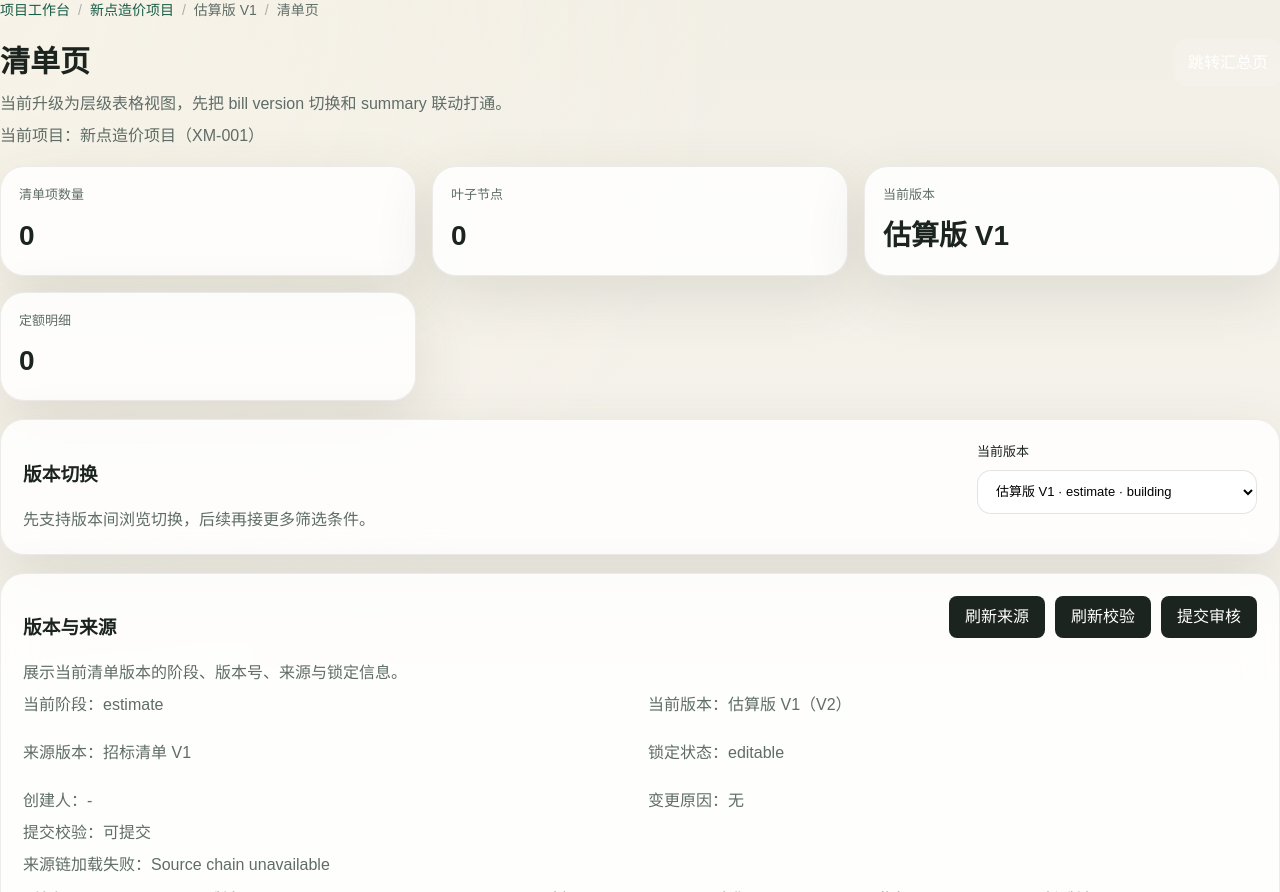
BillItemsPage › refreshes source chain after load failure
Expected: the text "来源链加载失败：Source chain unavailable" is shown, 23,856 -> 330,873
Click the button "刷新来源" at (997, 616), box 949,596 -> 1045,638
(page scrolled)
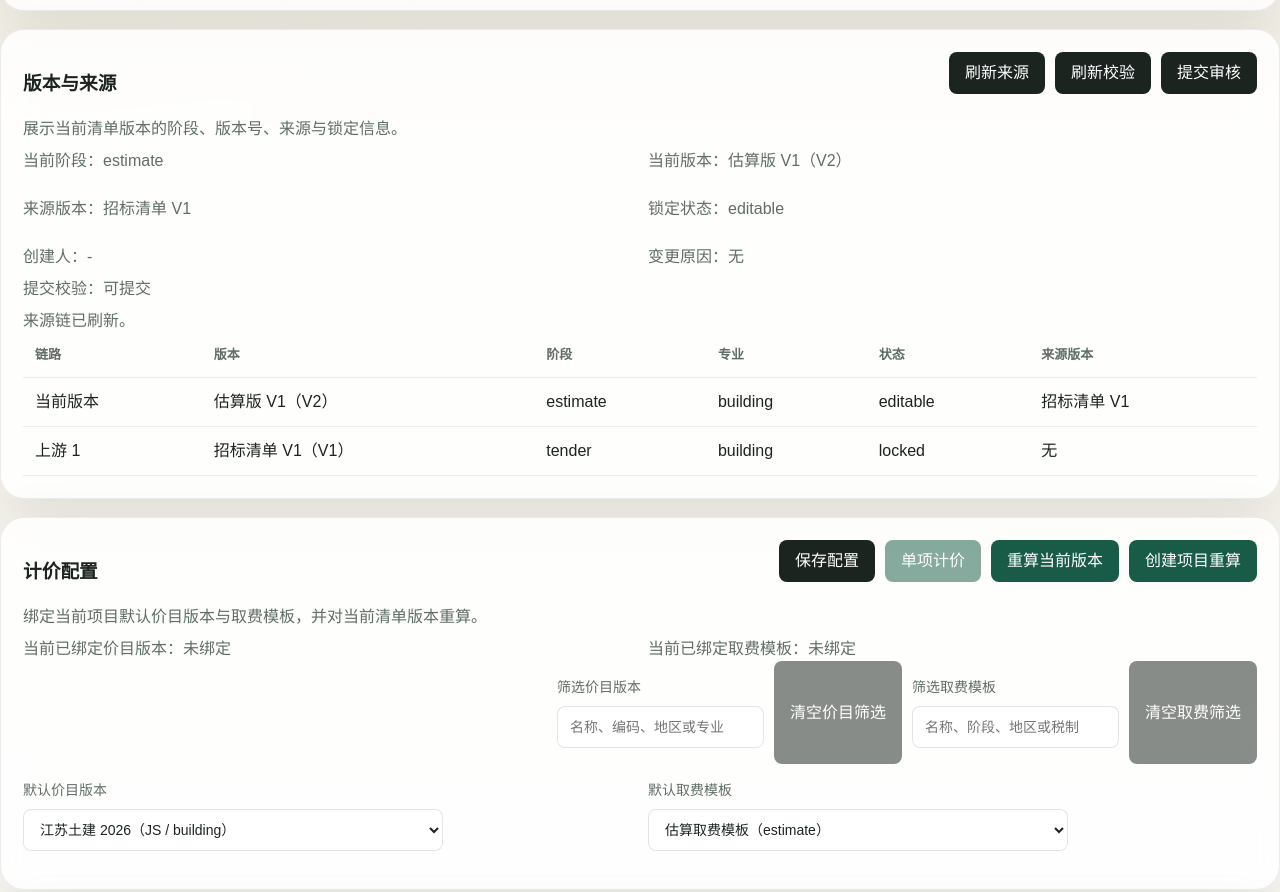
Expected: the cell "上游 1" is shown, 23,426 -> 202,475
Expected: the text "来源链已刷新。" is shown, 23,312 -> 135,329
